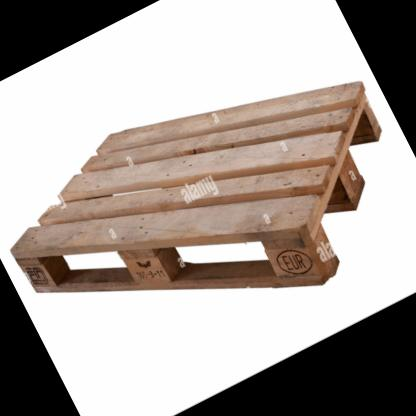BoxFace: (9, 76, 386, 297)
